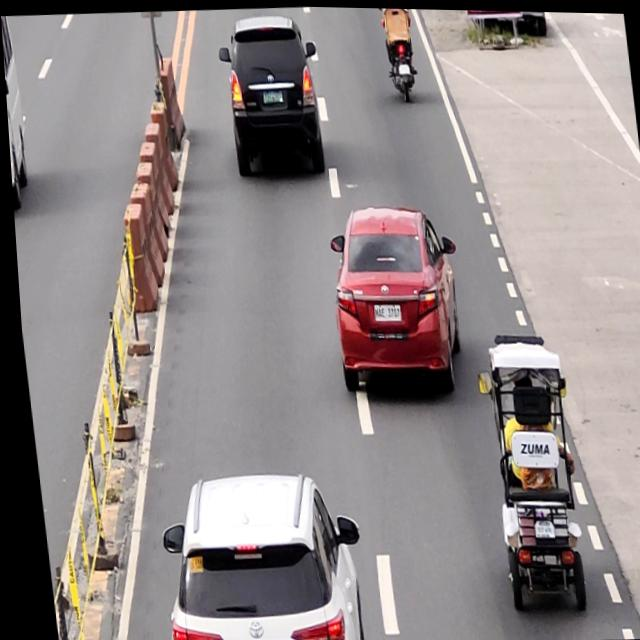Car: (143, 467, 366, 640), (319, 199, 467, 398), (214, 12, 328, 181)
E-bike: (467, 328, 585, 611)
License-Plate: (368, 300, 399, 320), (261, 87, 282, 102), (397, 61, 409, 73)
Motorcycle: (383, 7, 418, 101)
